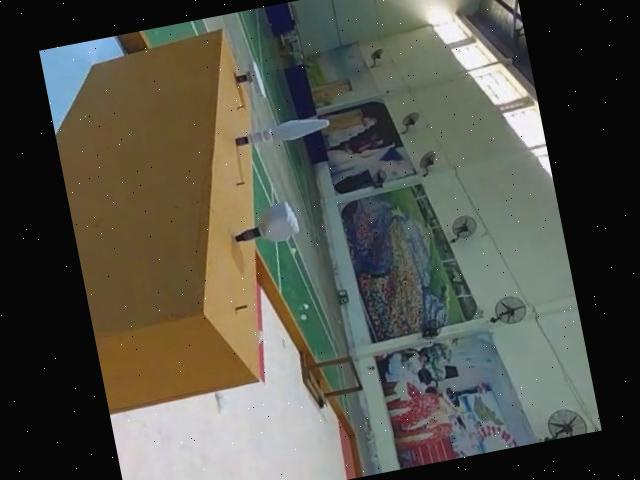Fist: (228, 194, 302, 251)
Hand: (234, 56, 269, 96)
Sph: (233, 109, 332, 151)
